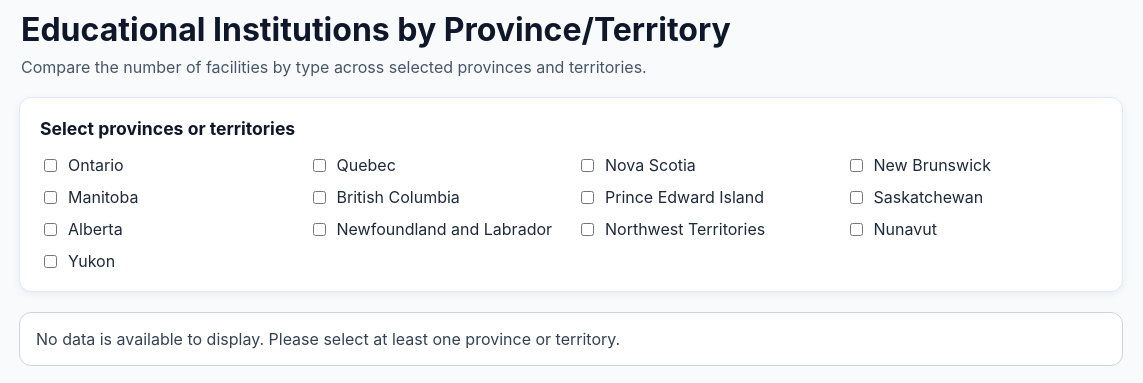
Test case: loading and error states › shows a loading message while fetch is in progress
The image size is (1143, 383).
Click the checkbox labelled "Ontario" at (50, 165), box [44,158,57,172]
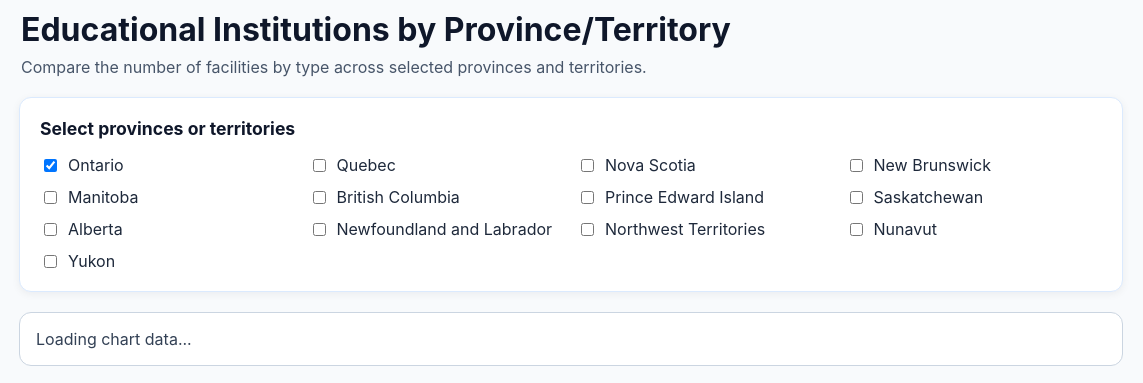
Expected: the text "Loading chart data..." is shown, [19,312,1123,366]
